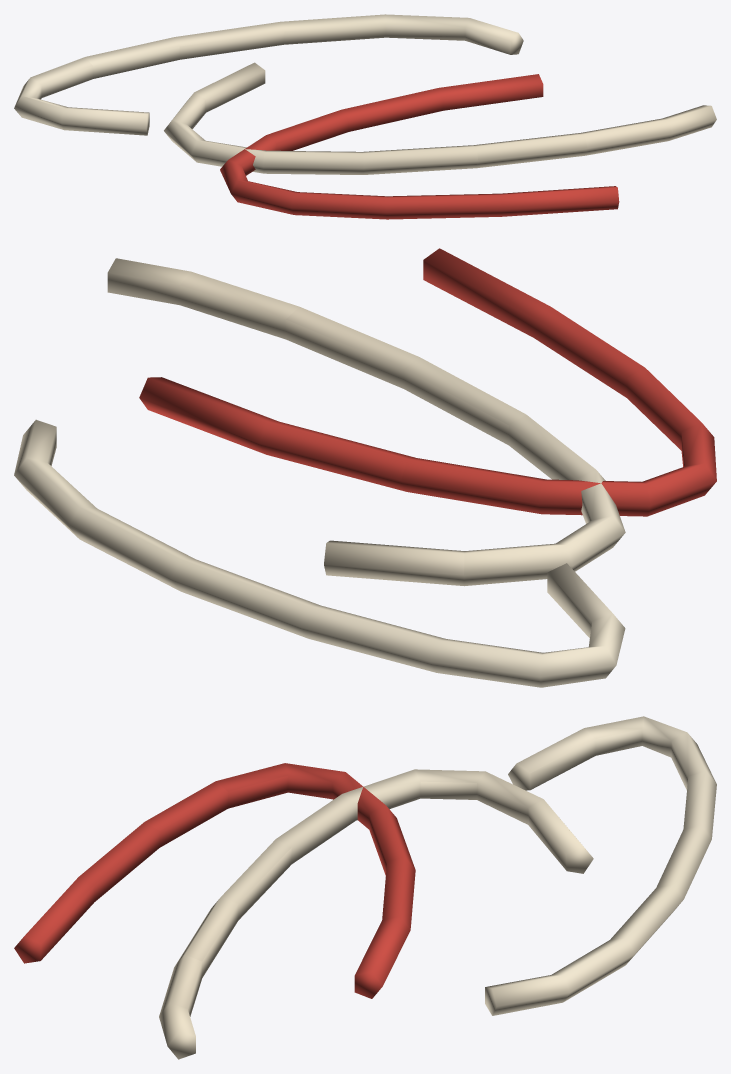
The model's file is den_gc_threads.glb.
3 renders of one model, top to bottom at view 1: azimuth 30°, elevation 25°; view 2: azimuth 150°, elevation 25°; view 3: azimuth 270°, elevation 25°, orthographic. The views are drawn at different scales.
Visible parts, largest first — view 1: den_gc_threads; view 2: den_gc_threads; view 3: den_gc_threads.
Part boxes in pixels (box(x1,y1,x2,y2)): den_gc_threads: box(14, 14, 716, 219); den_gc_threads: box(14, 248, 716, 687); den_gc_threads: box(14, 716, 716, 1059).
Bounding box in the file's own units: 2.15 × 0.0856 × 1.99.
